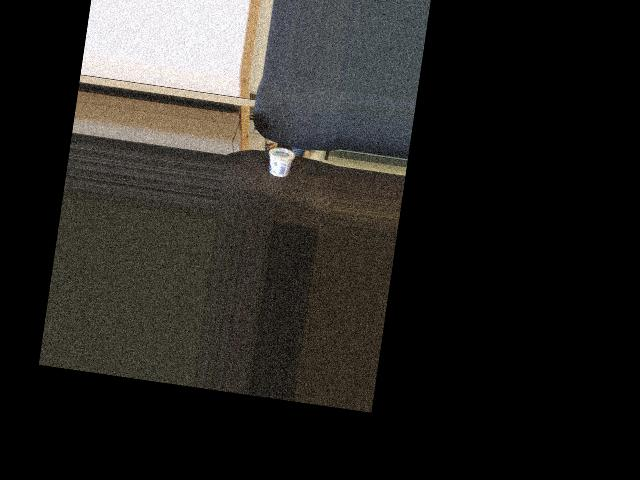cotage: (266, 145, 295, 181)
